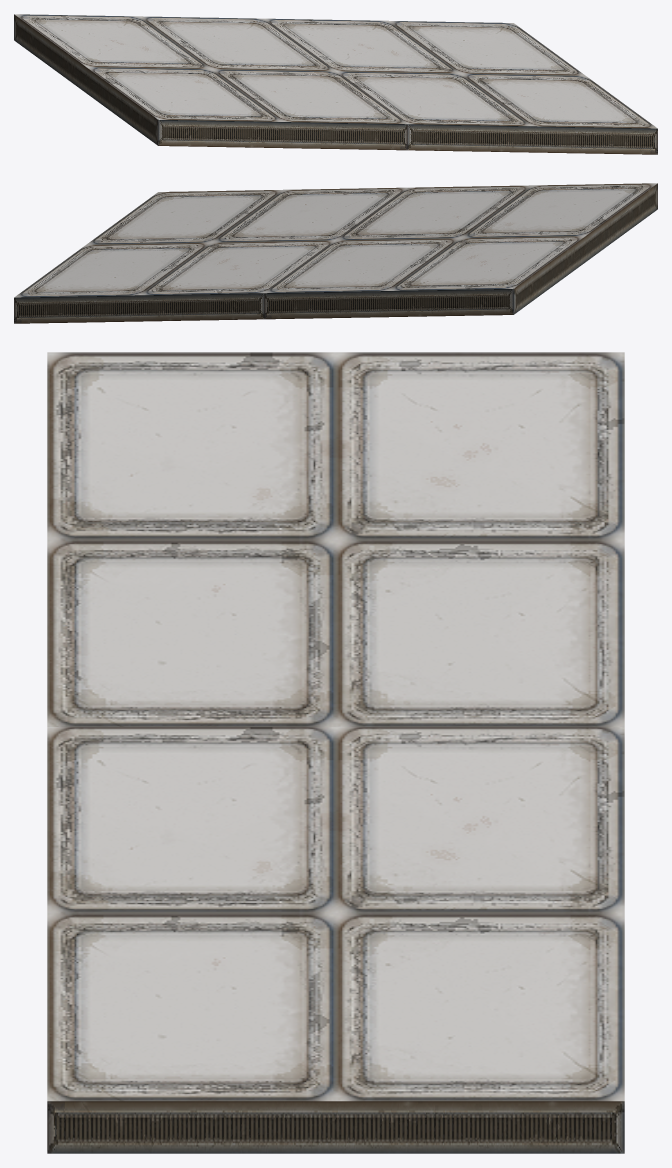
File: scifi_ramp2_9.FBX
The picture shows the model from 3 angles, top to bottom: view 1: azimuth 30°, elevation 25°; view 2: azimuth 150°, elevation 25°; view 3: azimuth 270°, elevation 25°; orthographic projection. The views are drawn at different scales.
Visible parts, largest first — view 1: Plane061; view 2: Plane061; view 3: Plane061.
Part boxes in pixels (bbox=[...]): Plane061: bbox=[14, 14, 657, 154]; Plane061: bbox=[14, 183, 657, 323]; Plane061: bbox=[47, 352, 624, 1153].
Bounding box in the file's own units: 508 × 152 × 254.
